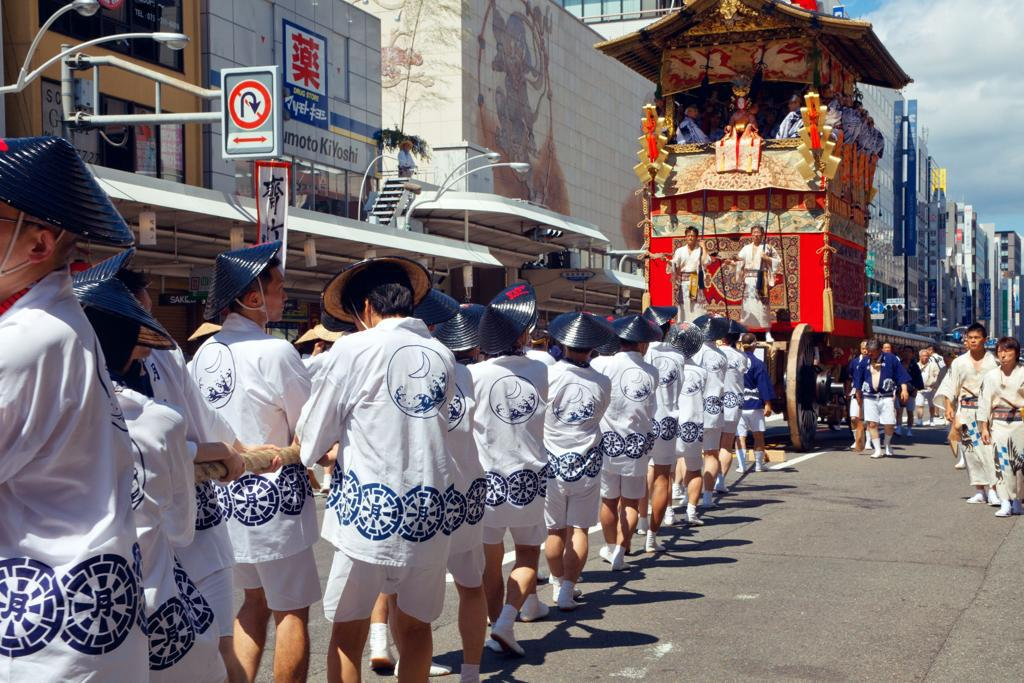face: (248, 269, 290, 323), (998, 347, 1017, 367), (969, 333, 983, 350), (752, 230, 762, 244), (687, 233, 697, 246), (965, 337, 973, 350), (689, 108, 698, 119), (790, 100, 799, 111), (904, 348, 912, 359), (868, 350, 878, 358), (861, 346, 869, 355), (884, 345, 891, 354), (921, 354, 928, 363), (712, 117, 719, 126), (657, 98, 664, 107), (768, 115, 775, 124), (927, 350, 933, 355), (900, 351, 904, 357)
